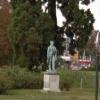Statue: (39, 38, 68, 86)
